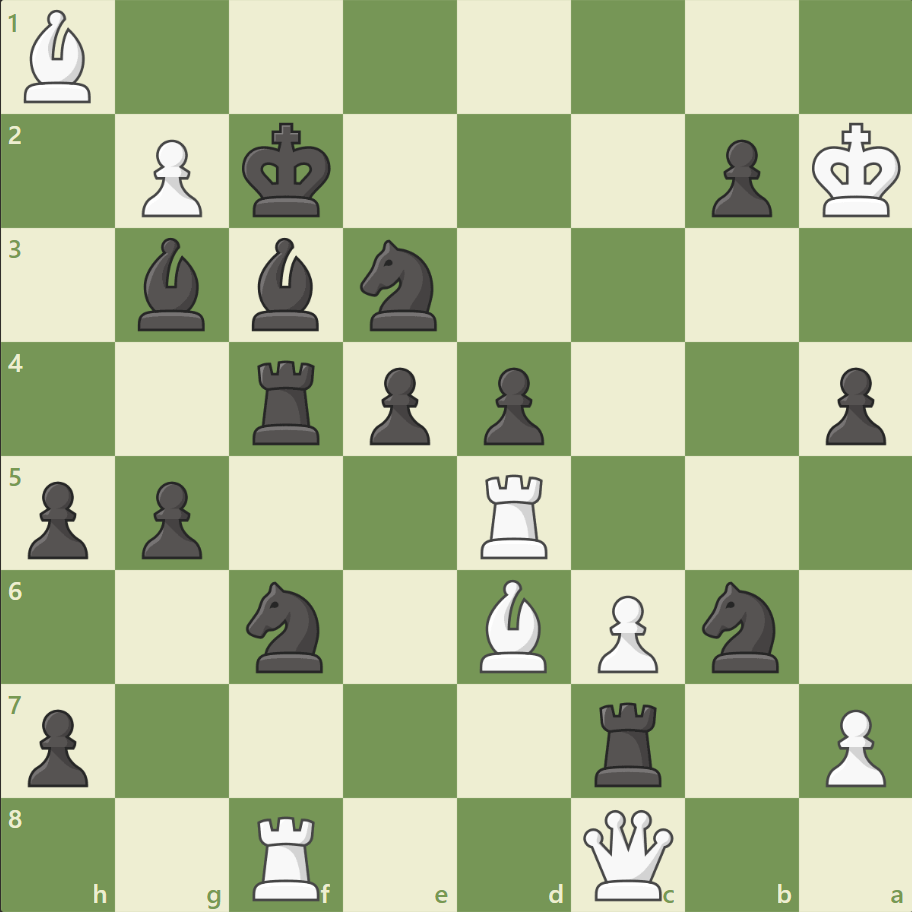B: (17, 6, 101, 109), (471, 574, 555, 676)
K: (806, 117, 906, 225)
P: (133, 132, 208, 223), (815, 700, 889, 791), (588, 586, 662, 677)
Q: (578, 804, 677, 903)
R: (246, 806, 329, 904), (473, 466, 556, 563)
b: (244, 233, 328, 336), (131, 233, 215, 336)
k: (238, 117, 338, 225)
n: (351, 234, 449, 337), (692, 575, 789, 677), (238, 575, 335, 677)
p: (20, 700, 95, 791), (133, 473, 208, 564), (20, 473, 95, 564), (474, 359, 549, 450), (701, 132, 776, 223), (815, 359, 889, 450), (361, 359, 435, 450)
r: (587, 693, 670, 790), (246, 352, 329, 449)
